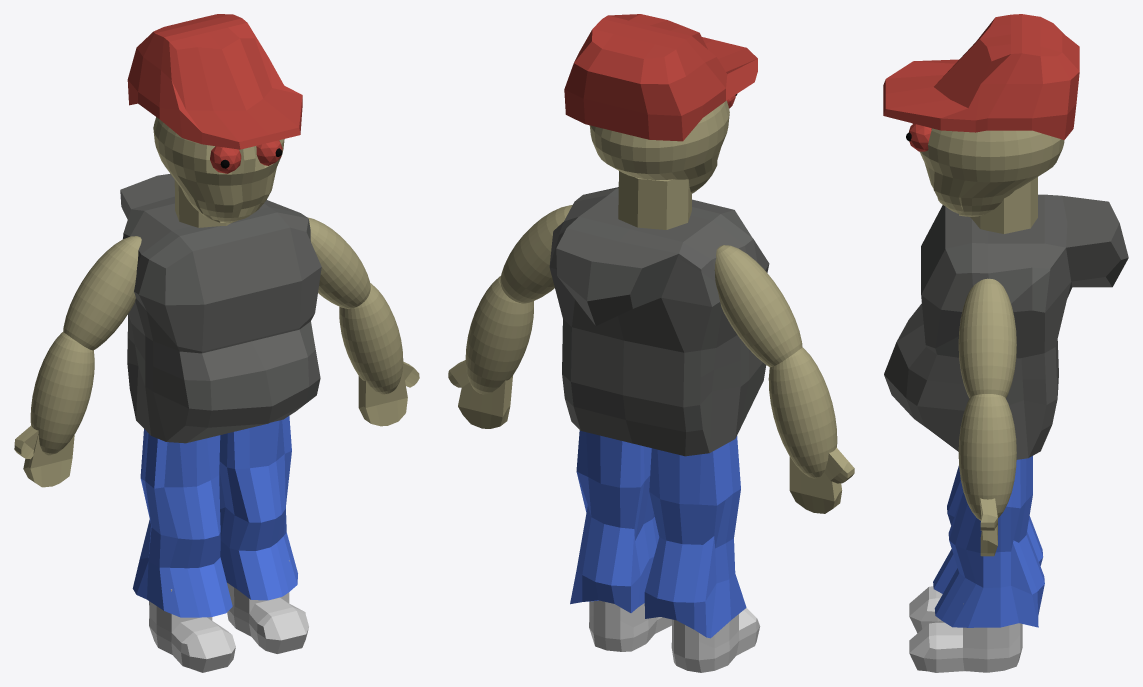
The model's file is Nylon.fbx.
3 renders of one model, left to right at view 1: azimuth 30°, elevation 25°; view 2: azimuth 150°, elevation 25°; view 3: azimuth 270°, elevation 25°, orthographic. The views are drawn at different scales.
Parts seen in each view (by area): view 1: Cube.002; view 2: Cube.002; view 3: Cube.002.
Boxes of the visible parts, x1,y1,x2,y2 form: Cube.002: (14,14,419,672); Cube.002: (448,14,854,672); Cube.002: (883,14,1128,672).
Size of the model in its own units: 400 by 591 by 214.
